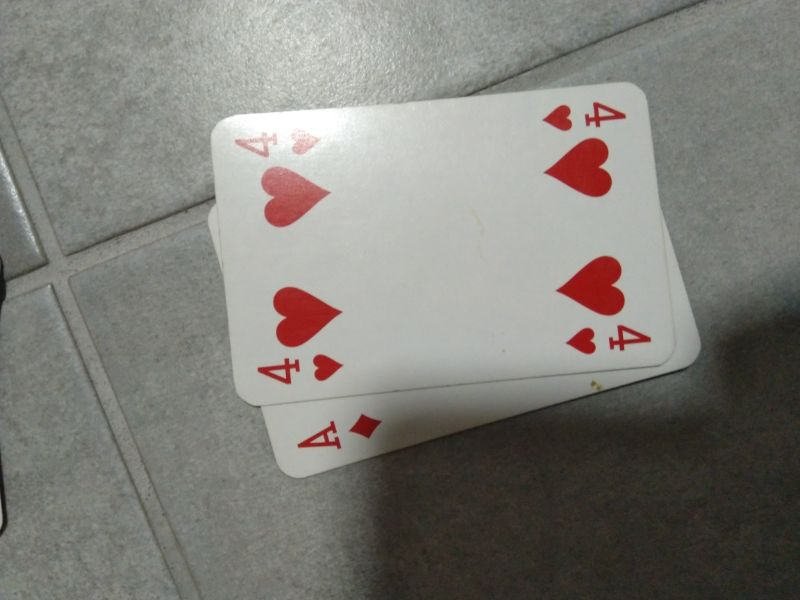4h: (227, 122, 331, 163), (562, 318, 658, 359), (535, 96, 638, 133), (249, 352, 348, 389)
Ad: (285, 407, 388, 458)
